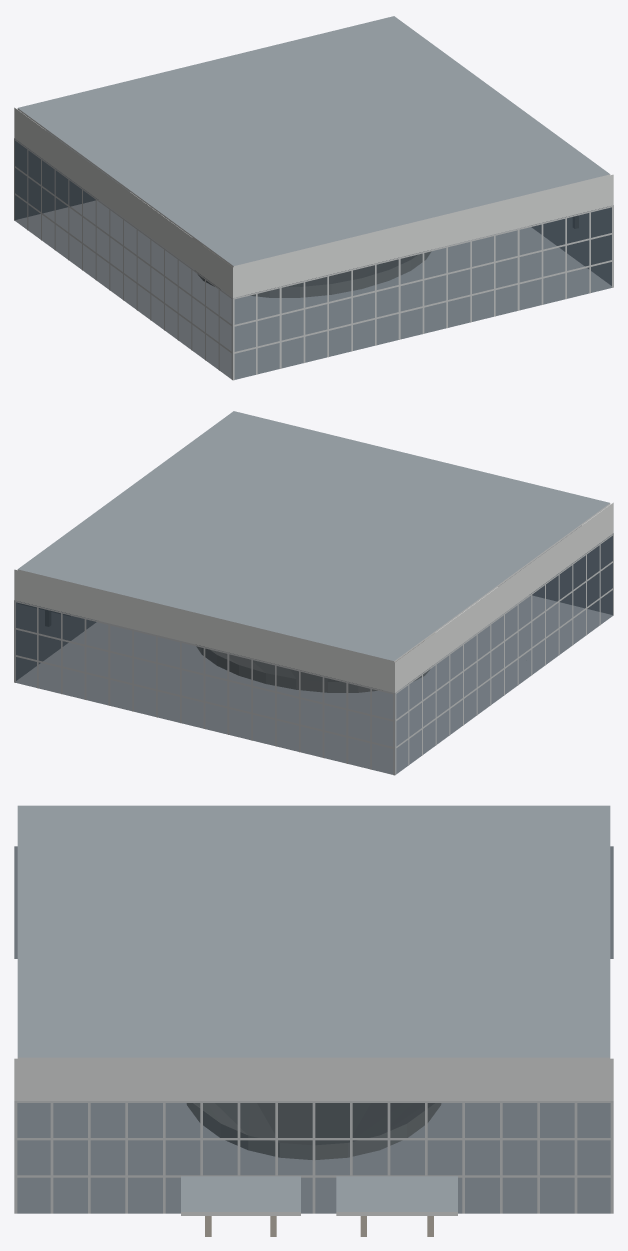
Rendered from pdx-veterans-memorial-coliseum.glb.
The picture shows the model from 3 angles, top to bottom: view 1: azimuth 30°, elevation 25°; view 2: azimuth 150°, elevation 25°; view 3: azimuth 270°, elevation 25°; orthographic projection. The views are drawn at different scales.
Parts seen in each view (by area): view 1: Veterans Memorial Coliseum; view 2: Veterans Memorial Coliseum; view 3: Veterans Memorial Coliseum.
Boxes of the visible parts, <box> form: Veterans Memorial Coliseum: <box>14,16,613,380</box>; Veterans Memorial Coliseum: <box>14,411,613,775</box>; Veterans Memorial Coliseum: <box>14,805,613,1236</box>.
Size of the model in its own units: 125 by 31.2 by 110.
